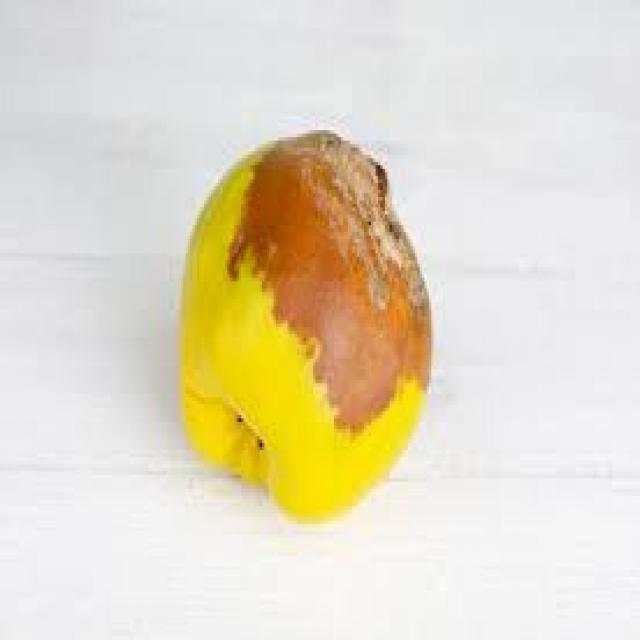organic waste: (181, 127, 431, 520)
